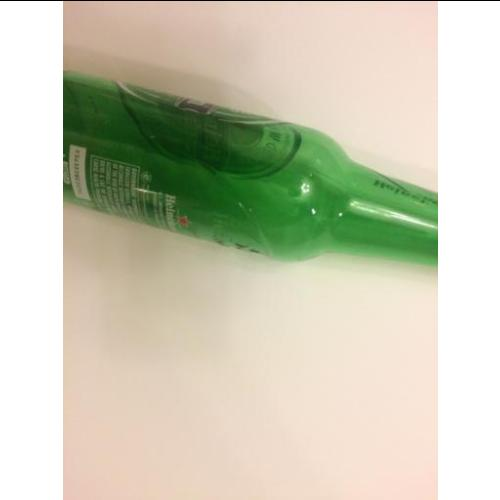glass: (62, 75, 437, 271)
